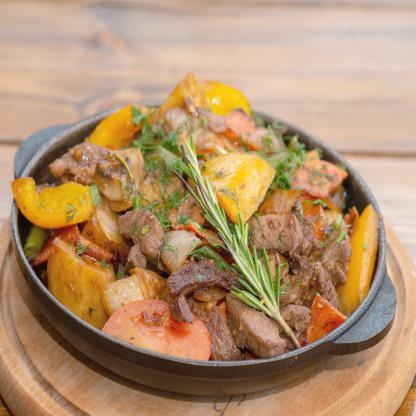Carne: (284, 234, 342, 308), (228, 294, 284, 363), (167, 260, 235, 310), (195, 286, 238, 358), (47, 145, 118, 179), (117, 205, 163, 254), (247, 214, 305, 250)
